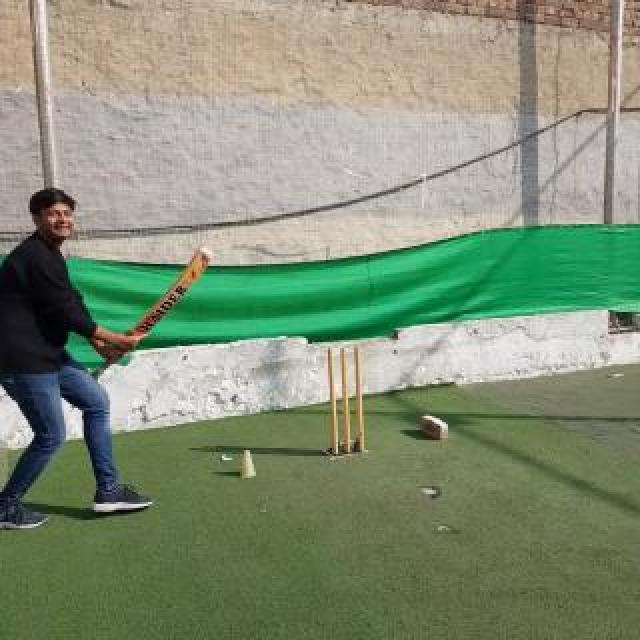bat: (96, 246, 214, 376)
